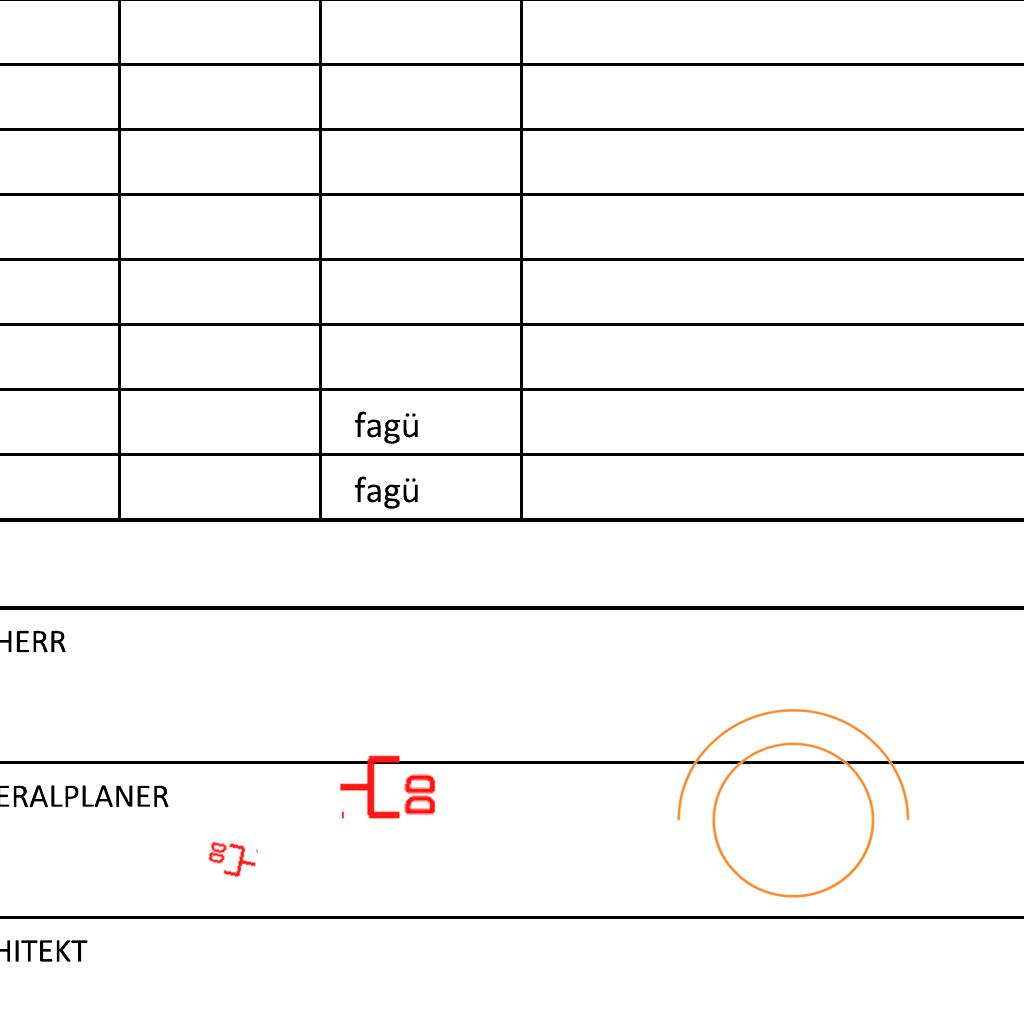Datenanschluss_zweifach: (337, 751, 440, 820), (203, 838, 261, 883)
Scheinwerfer_fuer_Alarmbeleuchtung: (655, 698, 919, 923)
